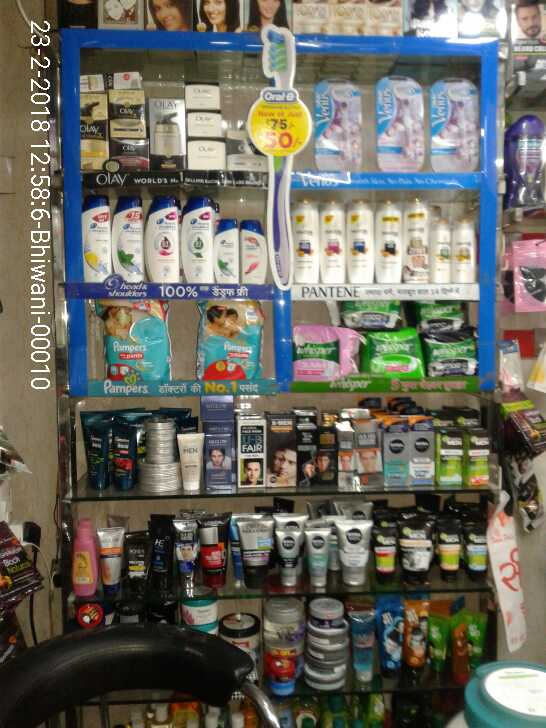gillete: (113, 427, 137, 491), (85, 428, 108, 488), (179, 416, 198, 430)
venus: (431, 76, 479, 170), (378, 76, 424, 169), (319, 77, 360, 170)
